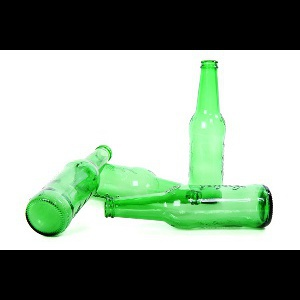emptybottle: (26, 145, 113, 237), (106, 185, 273, 229), (76, 164, 201, 208), (189, 60, 226, 205)
